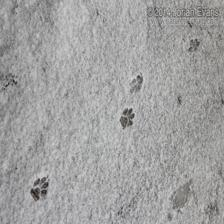dog: (26, 175, 52, 204), (116, 108, 136, 131)
